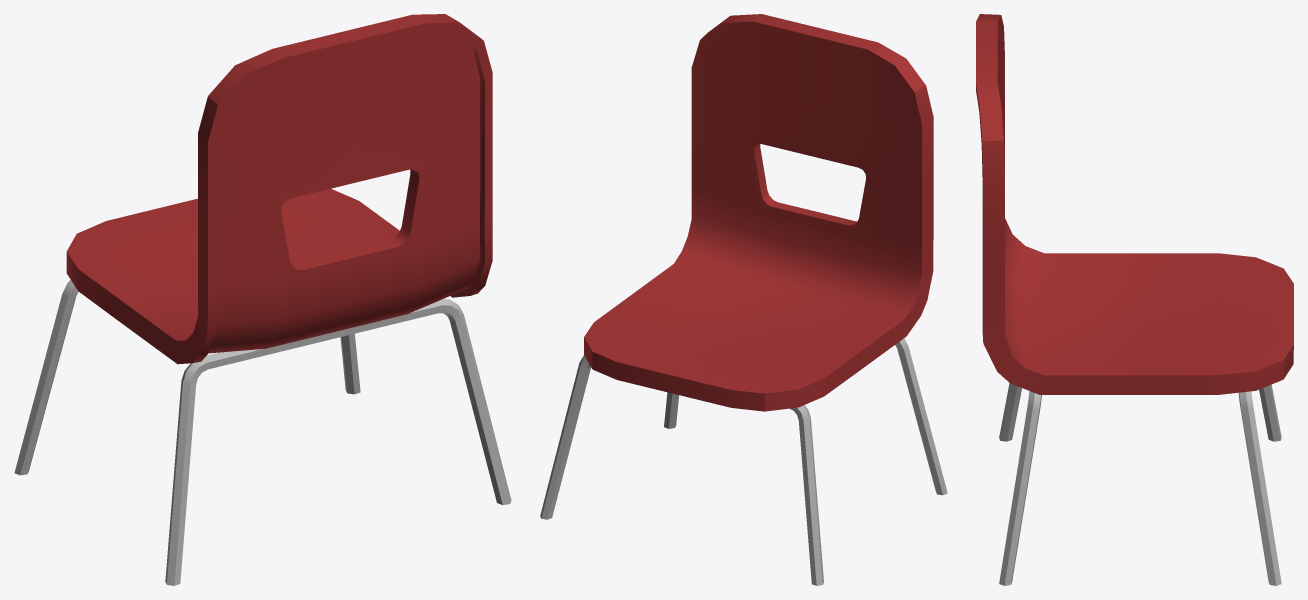
Rendered from Chair_Plastic_02.glb.
3 renders of one model, left to right at view 1: azimuth 30°, elevation 25°; view 2: azimuth 150°, elevation 25°; view 3: azimuth 270°, elevation 25°, orthographic. The views are drawn at different scales.
Visible parts, largest first — view 1: Mesh_Chair_Plastic_02; view 2: Mesh_Chair_Plastic_02; view 3: Mesh_Chair_Plastic_02.
Boxes of the visible parts, x1,y1,x2,y2 form: Mesh_Chair_Plastic_02: [14, 14, 511, 585]; Mesh_Chair_Plastic_02: [540, 14, 947, 585]; Mesh_Chair_Plastic_02: [976, 14, 1293, 585].
Size of the model in its own units: 0.5895 by 0.84 by 0.528.
1 material, 1 textured.
